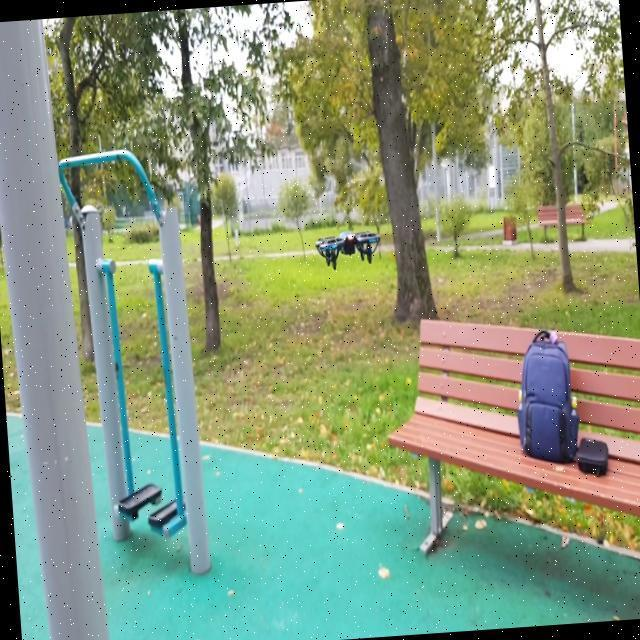Drons: (312, 226, 382, 271)
